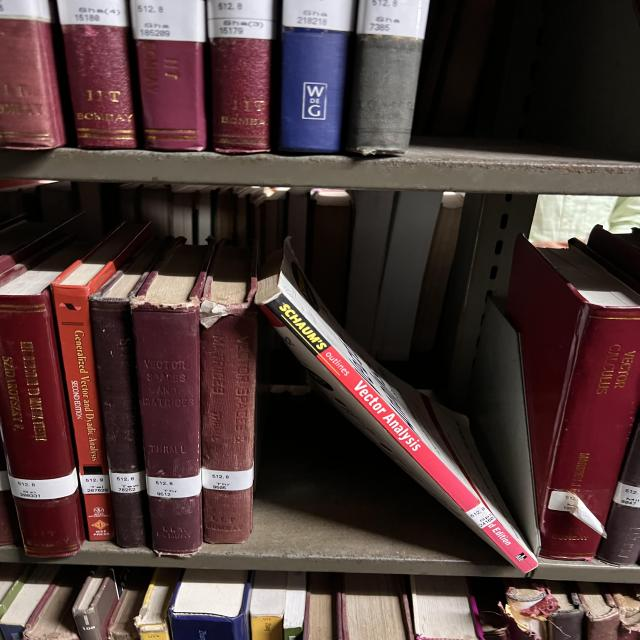Book: (255, 242, 538, 574), (505, 235, 640, 559), (53, 222, 150, 541), (132, 244, 213, 555), (0, 266, 85, 558), (90, 239, 170, 548), (200, 242, 257, 544)
Label: (548, 490, 607, 538), (8, 469, 78, 500), (147, 474, 202, 499), (202, 466, 253, 491), (110, 471, 147, 494), (467, 504, 495, 529), (80, 475, 110, 494)
